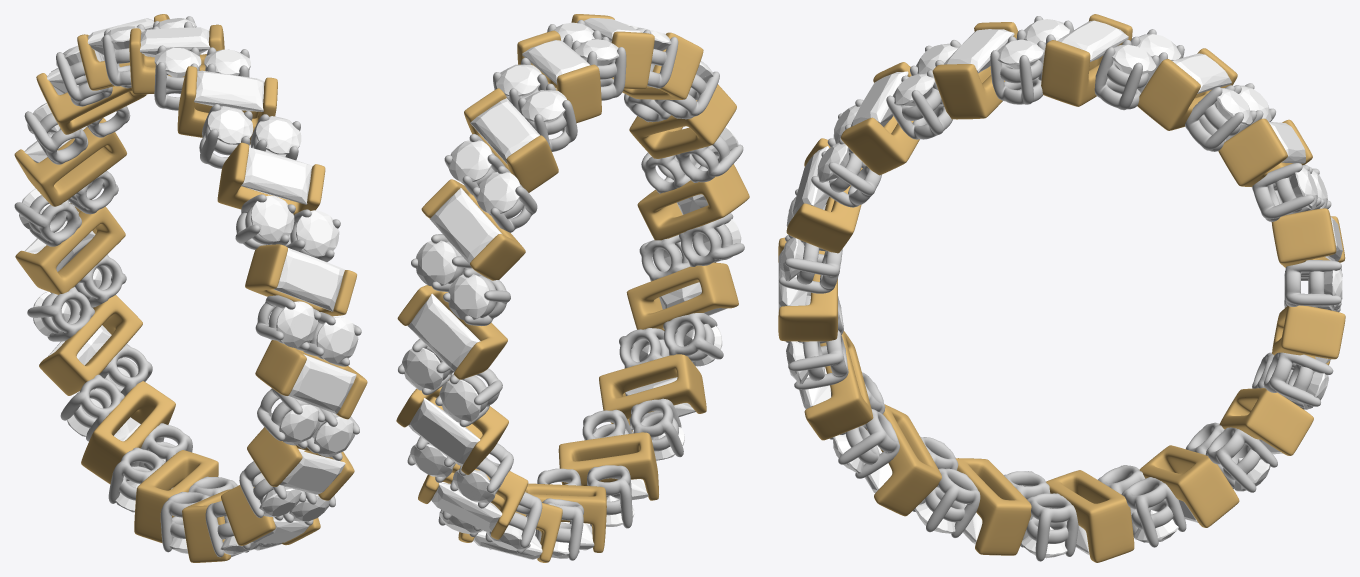
The model's file is jewelleryDemo.glb.
The picture shows the model from 3 angles, left to right: view 1: azimuth 30°, elevation 25°; view 2: azimuth 150°, elevation 25°; view 3: azimuth 270°, elevation 25°; orthographic projection. The views are drawn at different scales.
Visible parts, largest first — view 1: chaton_baguett_big, baguette_big_3, baguette_big_2, baguette_big_4, baguette_big_1, baguette_big_5, baguette_big, chaton_dia_1_2, chaton_dia_2_2, chaton_dia_1_3, chaton_dia_2_3, chaton_dia_2_1 (+13 smaller); view 2: chaton_baguett_big, baguette_big_12, baguette_big_13, baguette_big_11, baguette_big_14, baguette_big_10, baguette_big, chaton_dia_1_12, chaton_dia_2_12, chaton_dia_1_13, chaton_dia_2_13, chaton_dia_2_11 (+13 smaller); view 3: chaton_baguett_big, baguette_big_1, baguette_big, baguette_big_2, baguette_big_14, baguette_big_3, chaton_dia_2, chaton_dia_2_14, chaton_dia_2_1, baguette_big_13, chaton_dia_2_13, chaton_dia_1 (+2 smaller).
Boxes of the visible parts, x1,y1,x2,y2 form: chaton_baguett_big: [14, 14, 367, 562]; baguette_big_3: [273, 248, 344, 311]; baguette_big_2: [241, 147, 312, 204]; baguette_big_4: [288, 354, 356, 414]; baguette_big_1: [194, 70, 264, 111]; baguette_big_5: [279, 450, 345, 494]; baguette_big: [140, 27, 210, 57]; chaton_dia_1_2: [251, 195, 294, 241]; chaton_dia_2_2: [296, 210, 339, 256]; chaton_dia_1_3: [276, 301, 318, 347]; chaton_dia_2_3: [316, 317, 358, 363]; chaton_dia_2_1: [255, 116, 301, 154]; chaton_baguett_big: [396, 14, 749, 562]; baguette_big_12: [408, 293, 480, 371]; baguette_big_13: [430, 188, 502, 263]; baguette_big_11: [408, 398, 480, 466]; baguette_big_14: [470, 98, 539, 164]; baguette_big_10: [431, 482, 502, 531]; baguette_big: [522, 40, 589, 84]; chaton_dia_1_12: [448, 274, 489, 319]; chaton_dia_2_12: [416, 240, 457, 286]; chaton_dia_1_13: [476, 172, 520, 213]; chaton_dia_2_13: [448, 140, 492, 182]; chaton_dia_2_11: [402, 348, 443, 390]; chaton_baguett_big: [778, 14, 1345, 562]; baguette_big_1: [944, 29, 1014, 73]; baguette_big: [1057, 20, 1128, 61]; baguette_big_2: [850, 71, 908, 126]; baguette_big_14: [1172, 53, 1231, 93]; baguette_big_3: [792, 146, 829, 216]; chaton_dia_2: [997, 39, 1043, 68]; chaton_dia_2_14: [1112, 44, 1156, 74]; chaton_dia_2_1: [893, 73, 934, 106]; baguette_big_13: [1269, 122, 1305, 163]; chaton_dia_2_13: [1216, 88, 1252, 125]; chaton_dia_1: [1024, 19, 1070, 44].
Size of the model in its own units: 0.5171 by 2.81 by 2.8.
